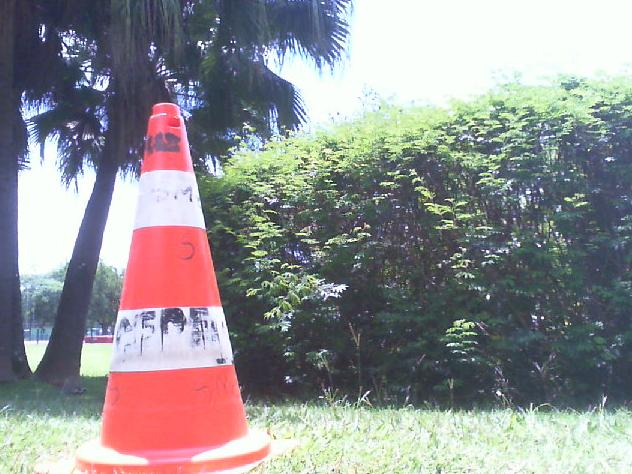0 cone: (33, 102, 297, 474)
